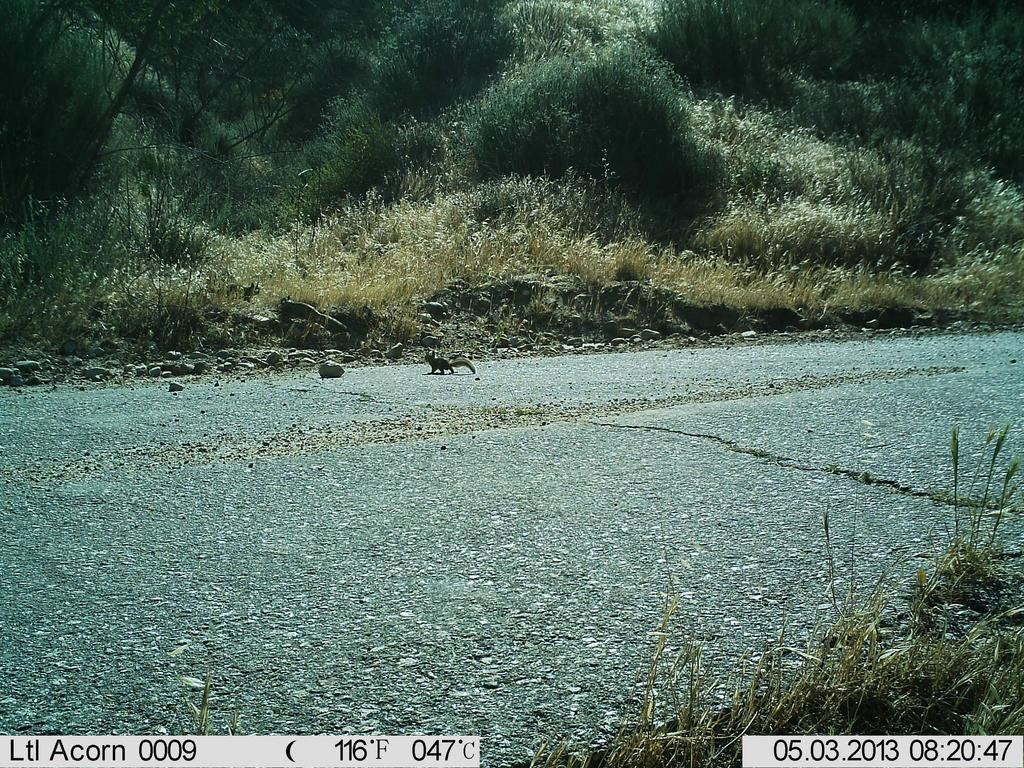squirrel: (423, 350, 480, 378)
